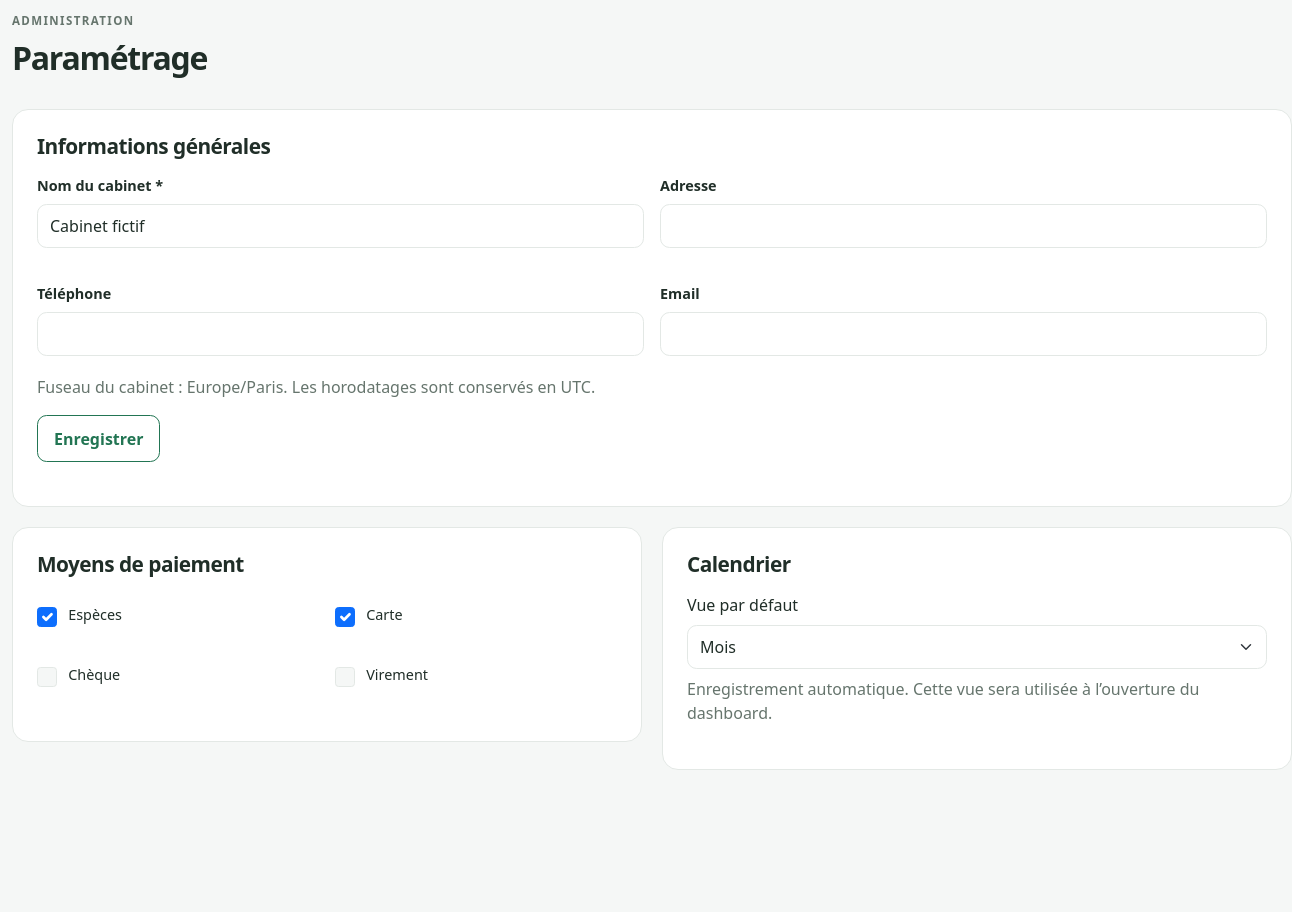
Scenario: requête en cours : cases verrouillées, puis retour à l’état confirmé en cas d’erreur
The image size is (1292, 912).
Click the checkbox labelled "Espèces" at (47, 617), box [37,607,57,627]
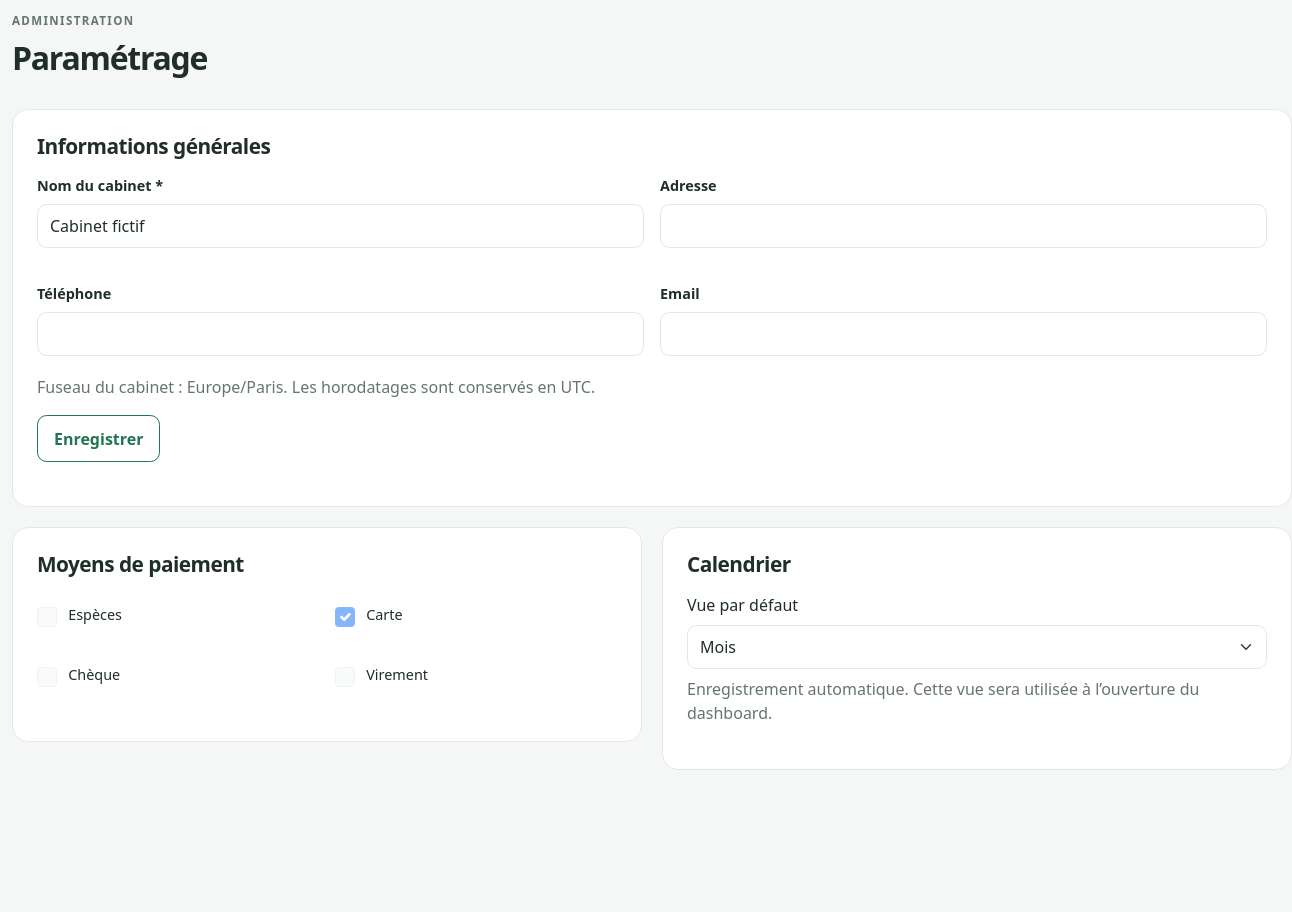
Expected: the button "Enregistrer" is enabled, [37,415,160,462]
Click the checkbox labelled "Carte" at (345, 617), box [335,607,355,627]
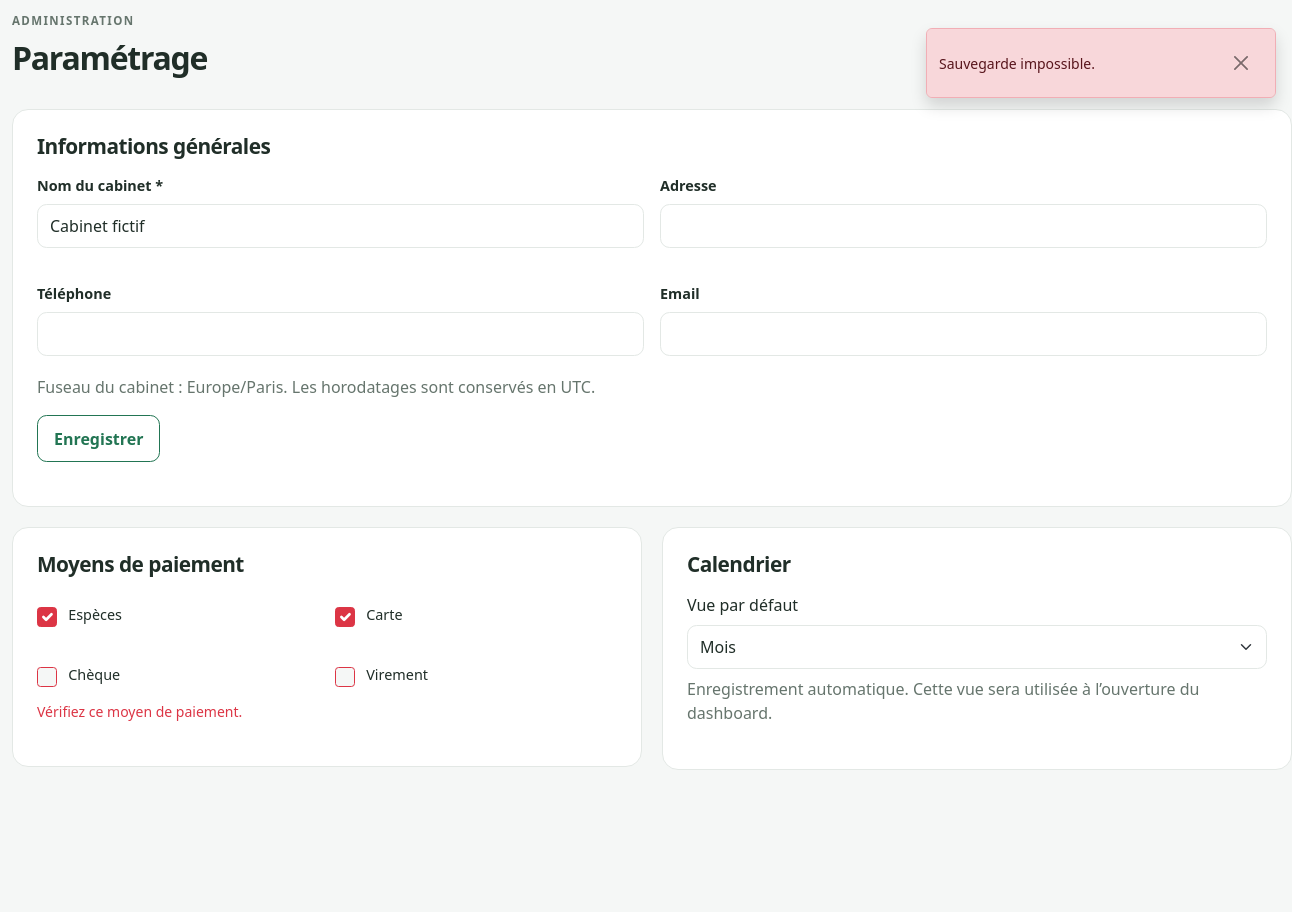
Result: the checkbox labelled "Espèces" is checked at [37,607,57,627]
Result: the message reads "Sauvegarde impossible." at [939,54,1095,72]
Result: the text "Vérifiez ce moyen de paiement." is shown once at [37,702,242,721]
